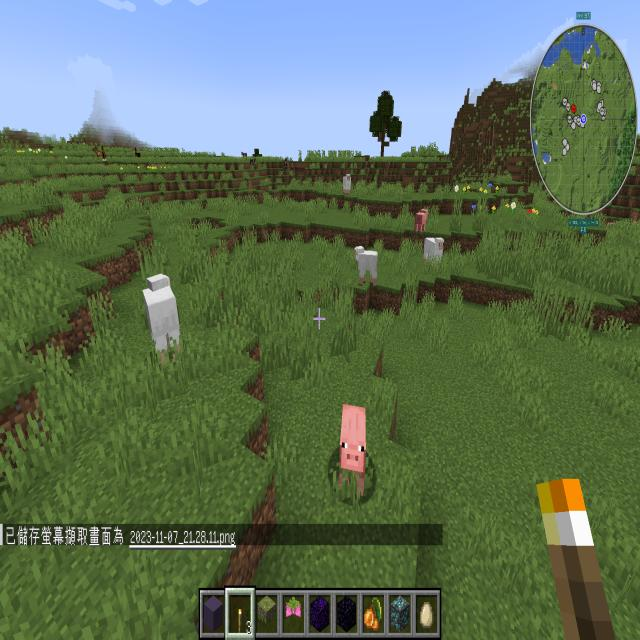cow: (281, 156, 289, 171), (249, 157, 257, 171), (241, 151, 248, 159)
pig: (336, 400, 369, 500), (412, 206, 429, 236)
